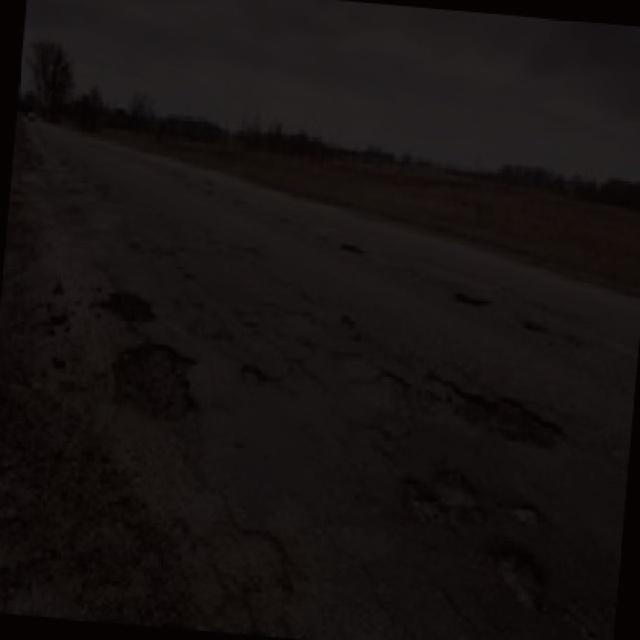Pothole: (425, 367, 560, 454), (110, 334, 210, 424), (337, 347, 421, 435), (483, 528, 562, 620), (397, 461, 482, 530), (104, 288, 158, 326), (451, 287, 500, 315), (504, 497, 546, 522), (517, 311, 556, 337), (341, 236, 367, 250)
